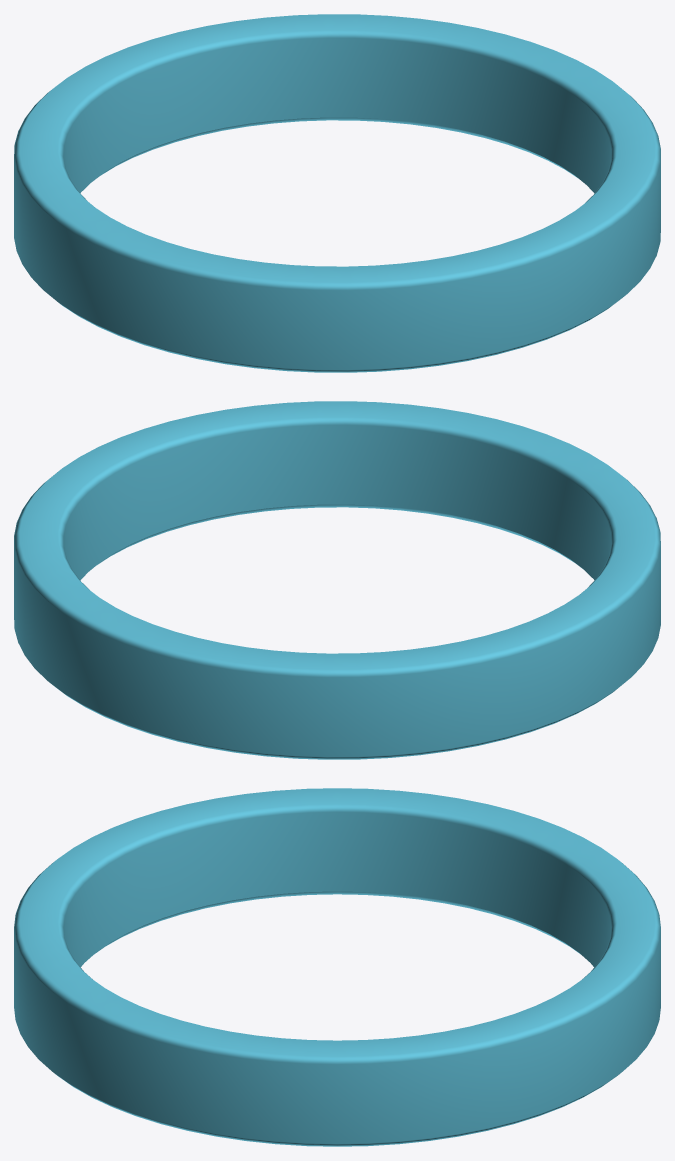
3 renders of one model, top to bottom at view 1: azimuth 30°, elevation 25°; view 2: azimuth 150°, elevation 25°; view 3: azimuth 270°, elevation 25°, orthographic.
Parts seen in each view (by area): view 1: seal_body; view 2: seal_body; view 3: seal_body.
Part boxes in pixels (x1=…): seal_body: x1=14, y1=14, x2=660, y2=372; seal_body: x1=14, y1=401, x2=660, y2=759; seal_body: x1=14, y1=788, x2=660, y2=1146.
Bounding box in the file's own units: 0.0413 × 0.00635 × 0.0413.
